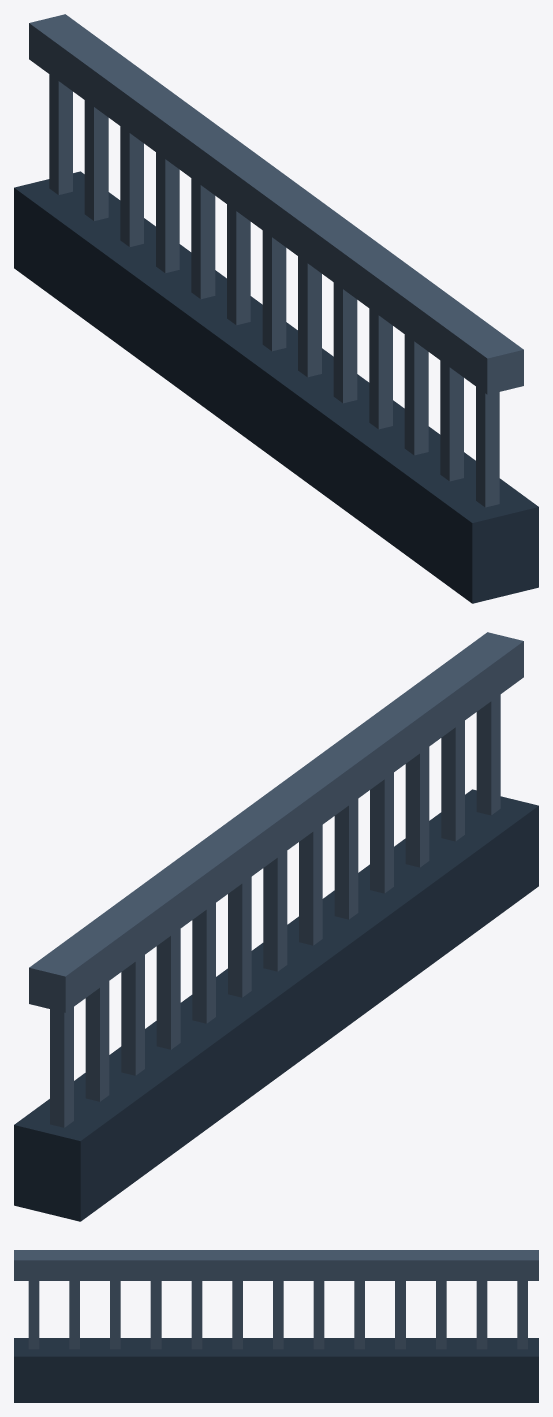
Rendered from Fence_3-1.fbx.
3 renders of one model, top to bottom at view 1: azimuth 30°, elevation 25°; view 2: azimuth 150°, elevation 25°; view 3: azimuth 270°, elevation 25°, orthographic. The views are drawn at different scales.
Parts seen in each view (by area): view 1: Fence_3-1; view 2: Fence_3-1; view 3: Fence_3-1.
Part boxes in pixels (left/top/right/bottom): Fence_3-1: left=14, top=14, right=538, bottom=603; Fence_3-1: left=14, top=632, right=538, bottom=1221; Fence_3-1: left=14, top=1250, right=538, bottom=1402.
Size of the model in its own units: 2.59 by 8.98 by 30.88.
